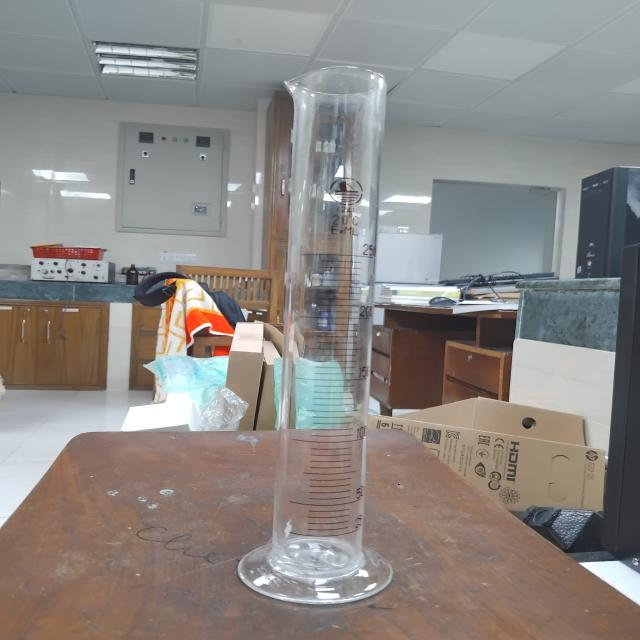Measuring_Cylinder: (221, 36, 432, 624)
